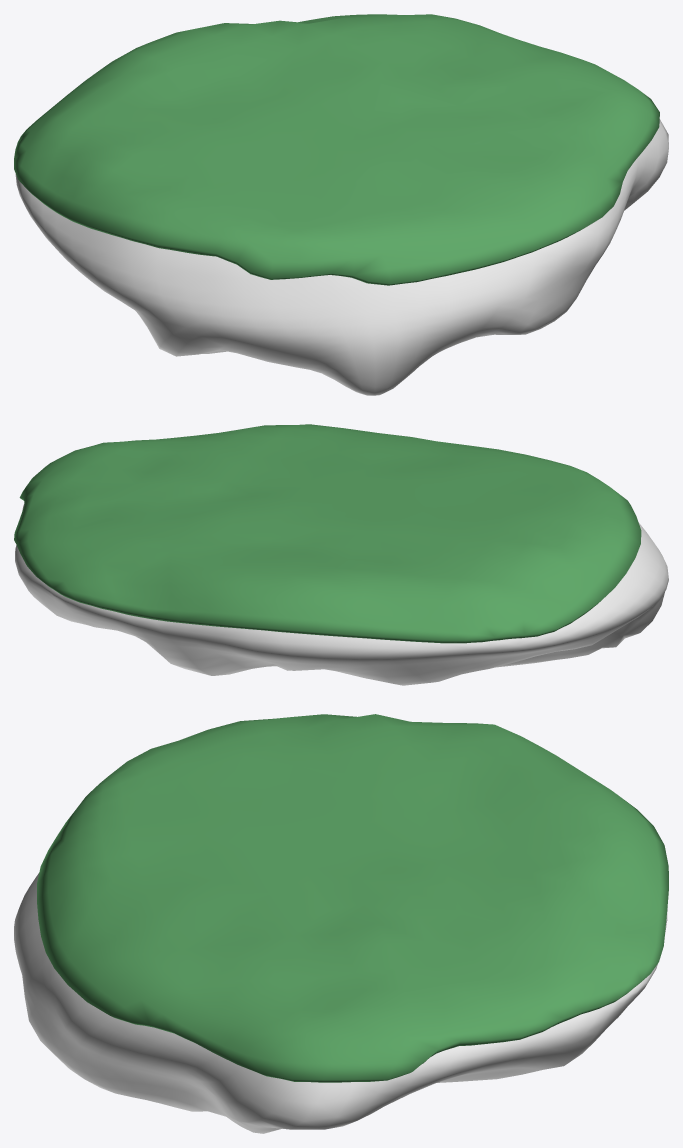
The model's file is IslandCircleSmall1.fbx.
3 renders of one model, top to bottom at view 1: azimuth 30°, elevation 25°; view 2: azimuth 150°, elevation 25°; view 3: azimuth 270°, elevation 25°, orthographic. The views are drawn at different scales.
Visible parts, largest first — view 1: Cube.005, Cube.002; view 2: Cube.005, Cube.002; view 3: Cube.005, Cube.002.
Part boxes in pixels (left/top/right/bottom): Cube.005: left=14, top=14, right=659, bottom=285; Cube.002: left=15, top=119, right=668, bottom=395; Cube.005: left=14, top=424, right=641, bottom=643; Cube.002: left=15, top=504, right=668, bottom=685; Cube.005: left=37, top=714, right=668, bottom=1082; Cube.002: left=14, top=873, right=667, bottom=1133.
Size of the model in its own units: 5226 by 1648 by 4275.
